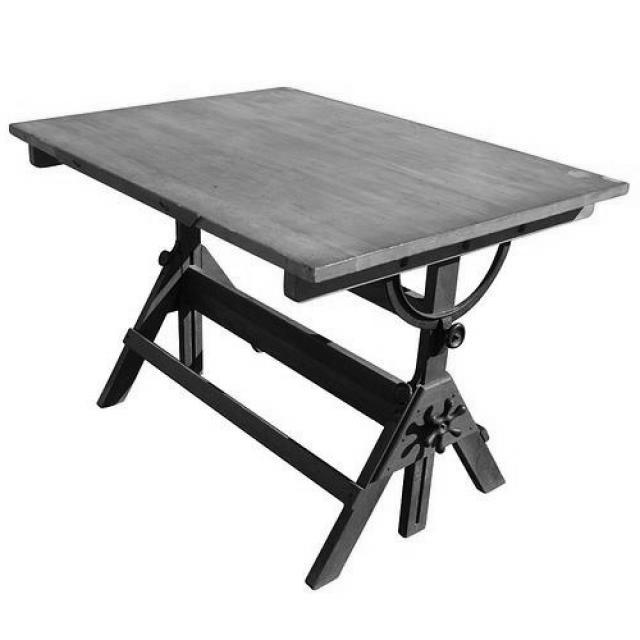table: (6, 83, 628, 578)
